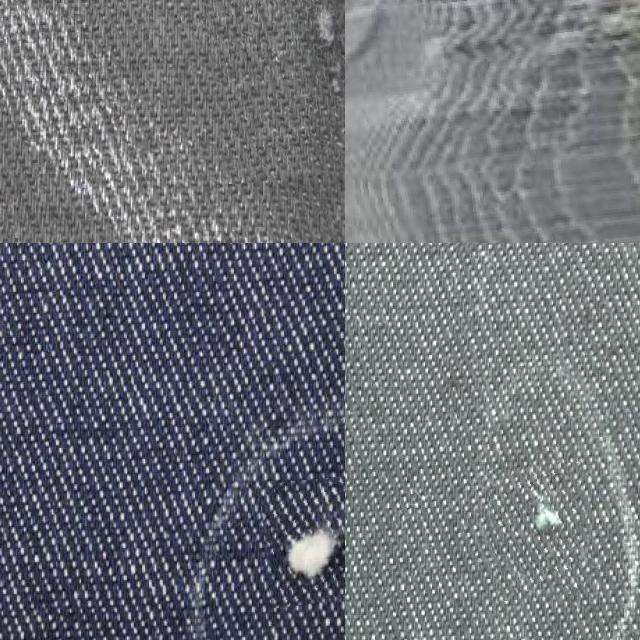stains: (345, 0, 640, 243), (186, 0, 345, 177), (486, 464, 592, 600), (262, 474, 345, 605)
